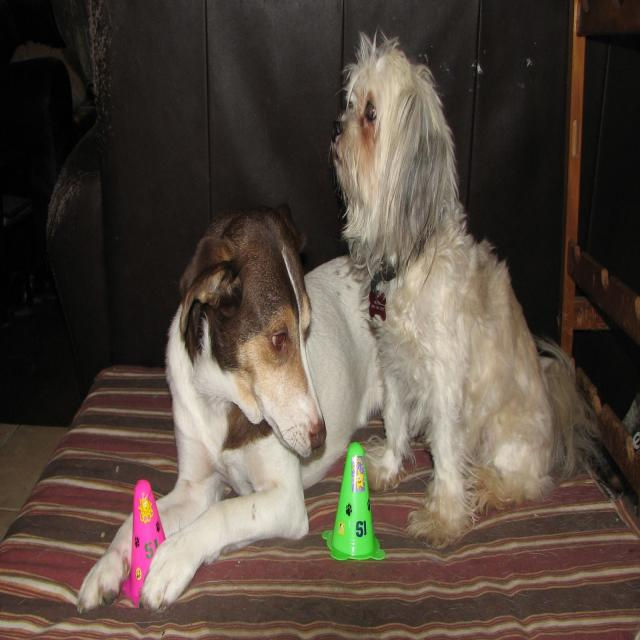laying down: (71, 194, 382, 612)
sitting: (328, 28, 590, 550)
